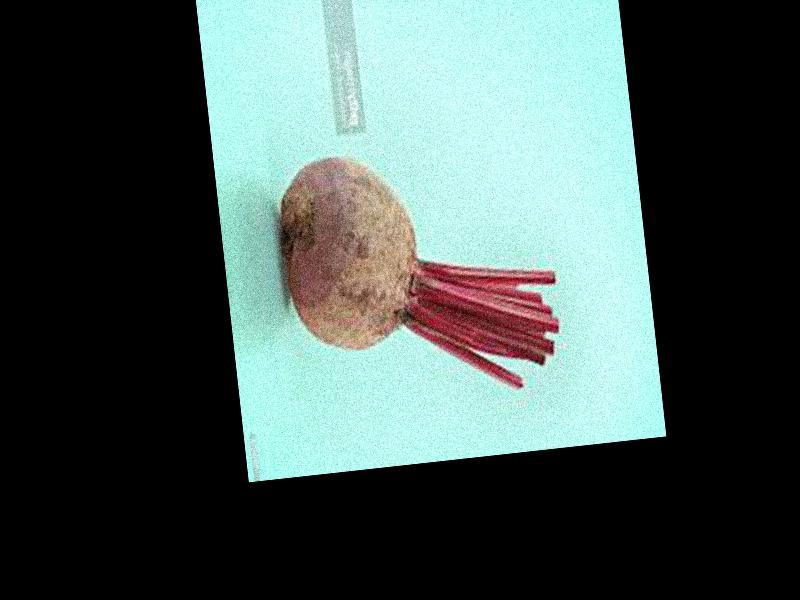Beet: (271, 134, 567, 411)
